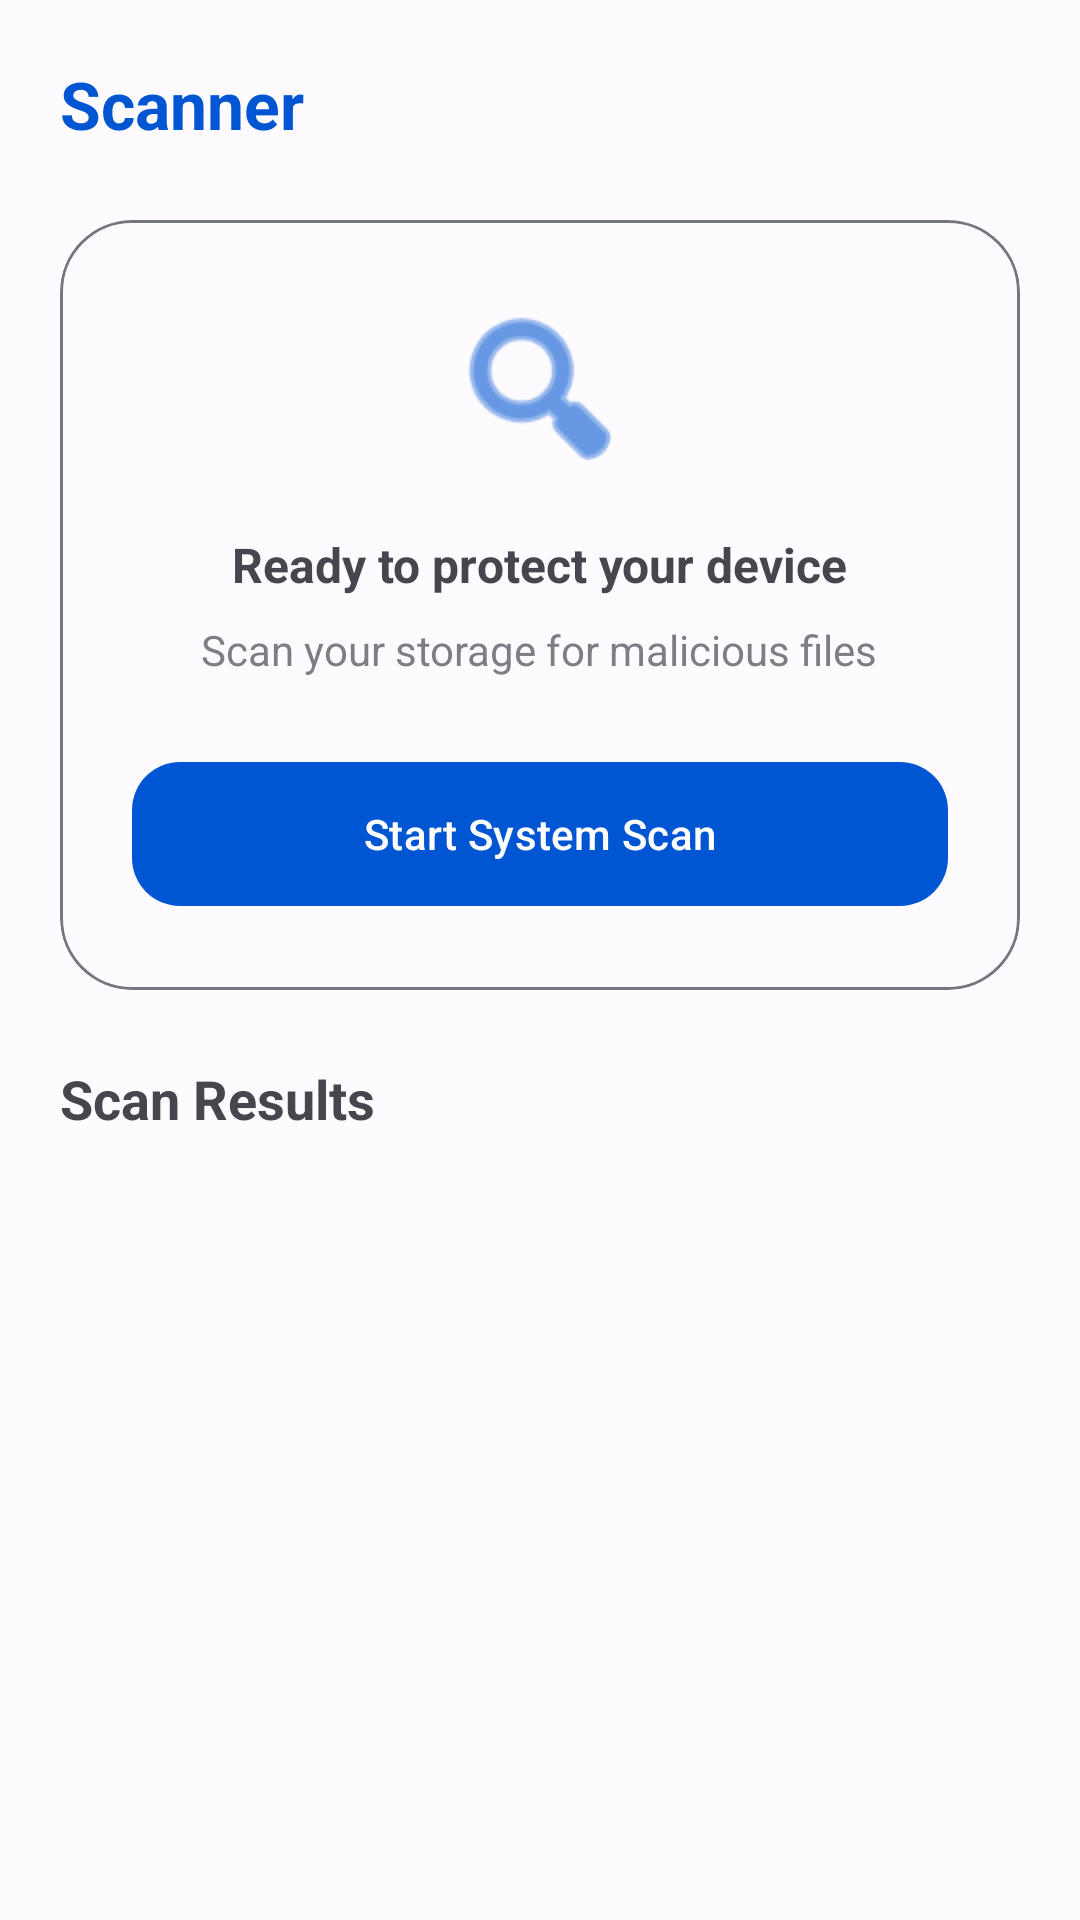

Icons on this 1080x1920 Android screen, each with its box as (x1, y1, x2, y2):
search: (469, 318, 611, 460)
